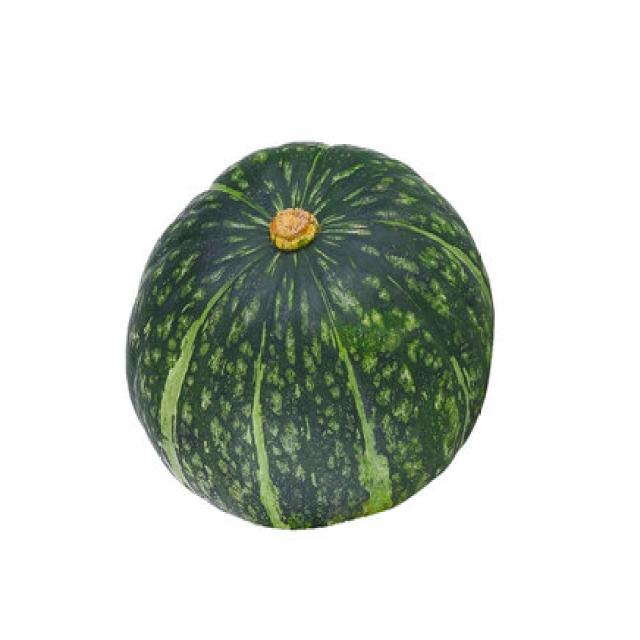Pumpkin: (123, 138, 495, 530)
